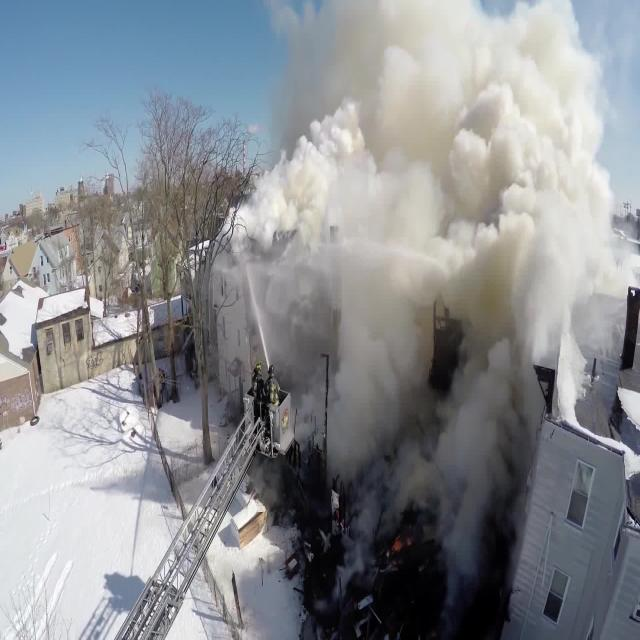smoke: (329, 41, 578, 299)
